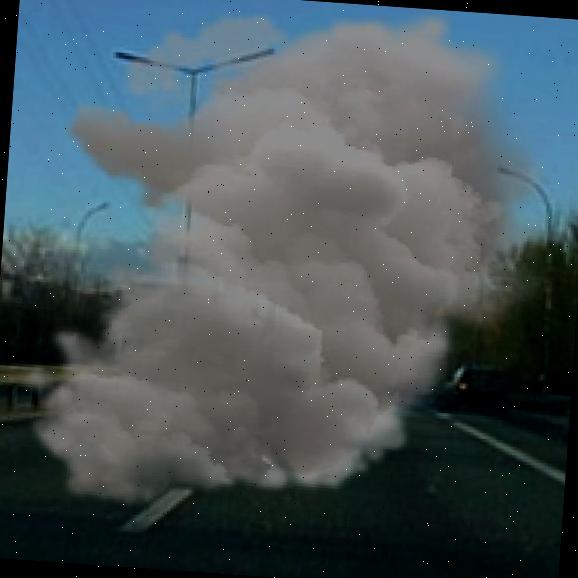smoke: (5, 0, 578, 538)
